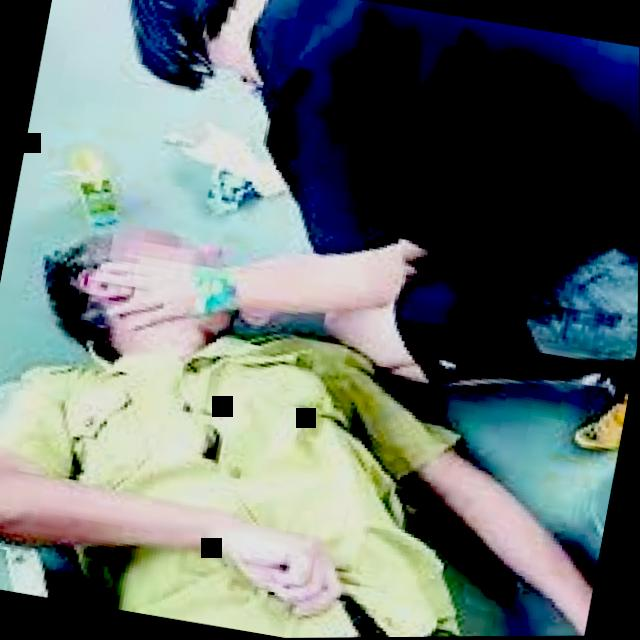Fall-Detected: (0, 165, 639, 640)
